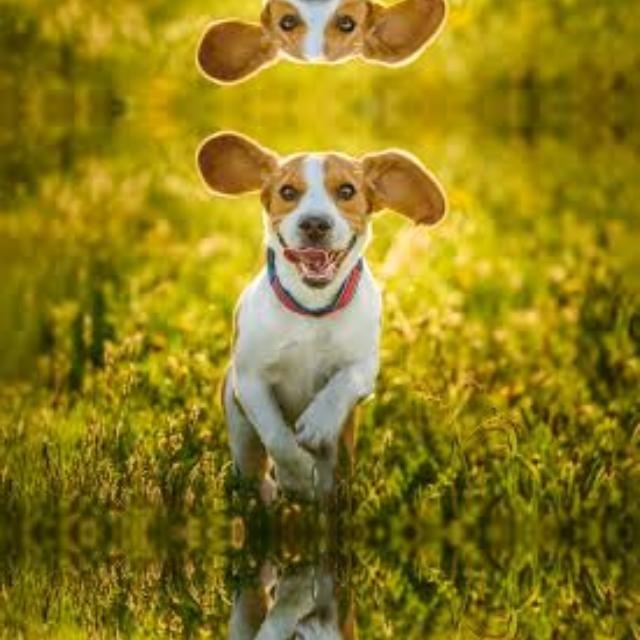dog: (210, 119, 450, 513), (210, 0, 449, 95), (210, 552, 449, 640)
